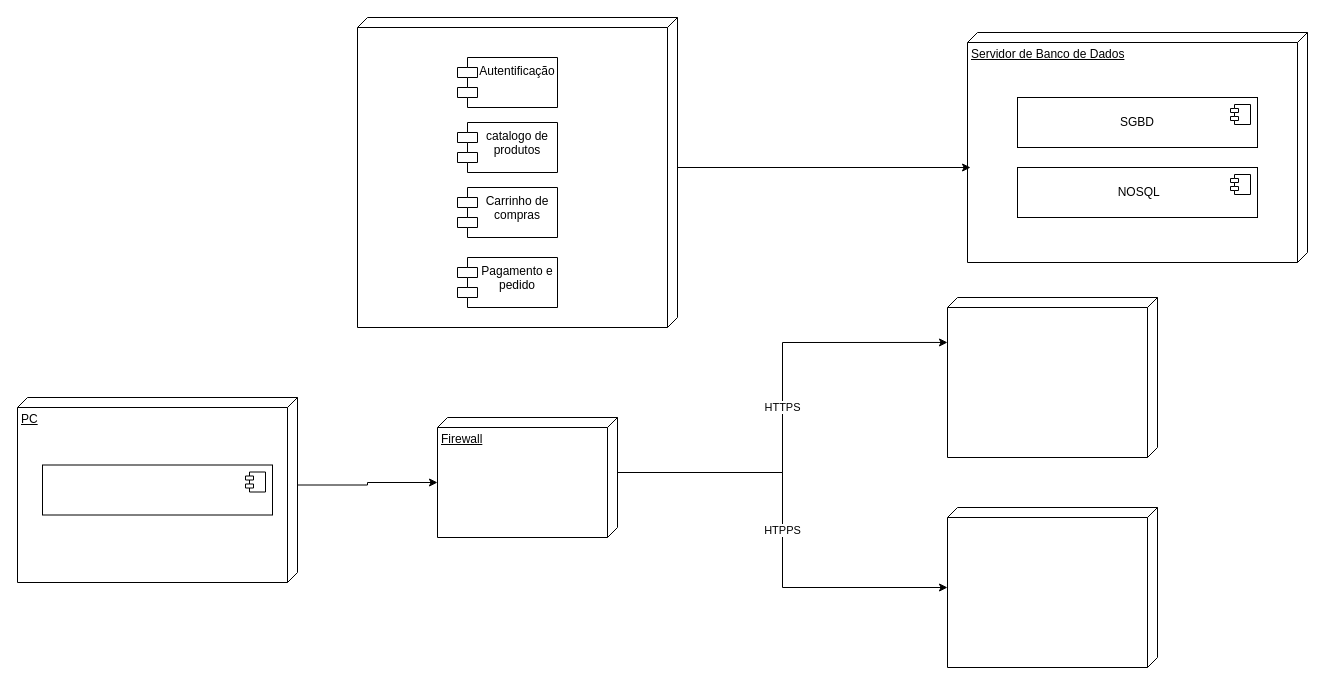
The diagram is 1325 pixels wide and 685 high, and some of its shapes have lost their labels. Here are the shapes that lost their labels. From the top down, the box of each, then its label:
(356, 16, 678, 328): ServidorWeb
(946, 296, 1158, 458): EnvioE-mail
(42, 464, 272, 515): Browser
(946, 506, 1158, 668): Payment Process Gateway
